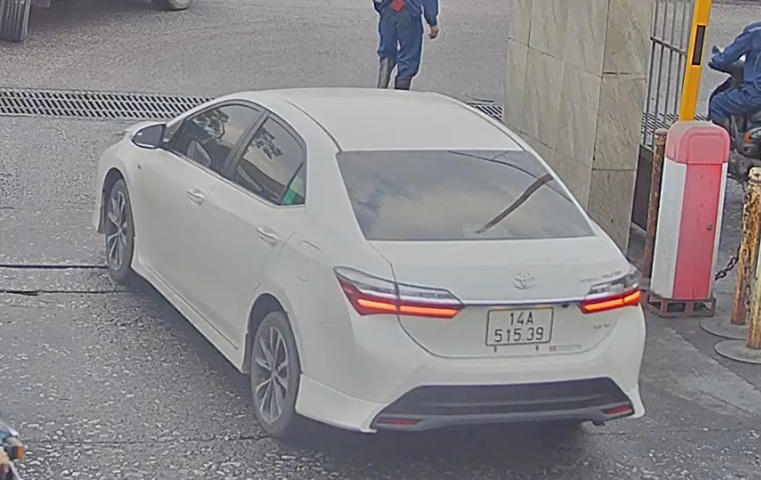vehicle plate: (481, 304, 558, 346)
